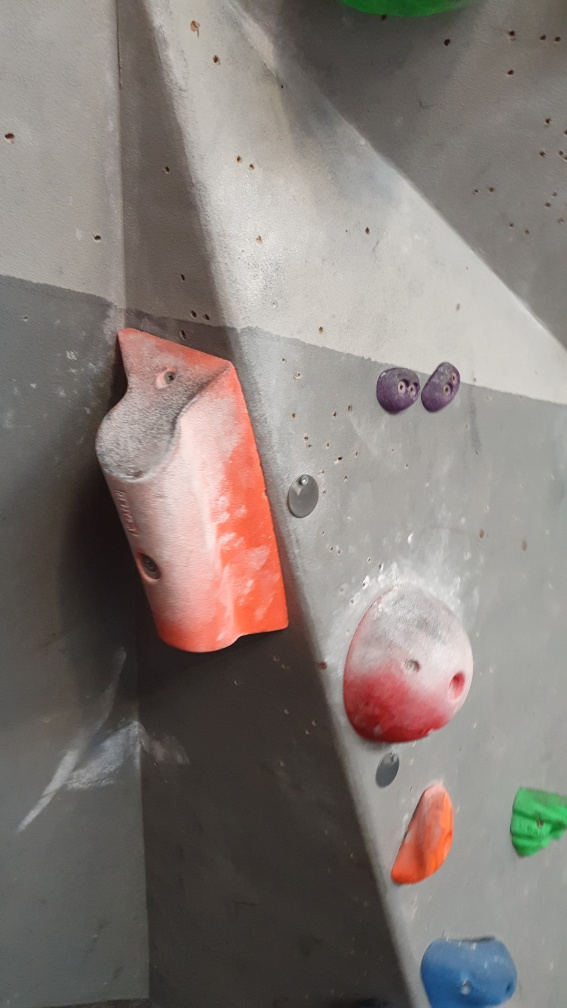Hand Start: (285, 470, 321, 523), (374, 752, 402, 790)
Jug: (508, 779, 567, 854)
Pinch: (94, 324, 290, 656), (419, 359, 465, 418), (375, 361, 424, 416)
Sloper: (341, 582, 475, 745)
